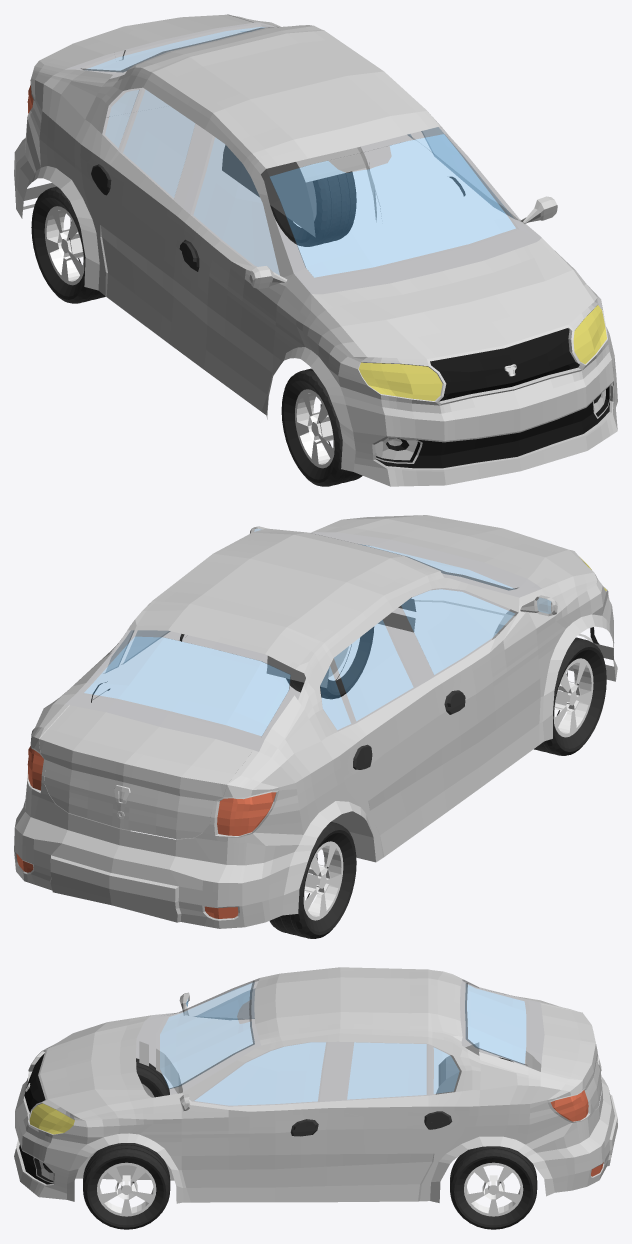
Rendered from Logan2_2017.glb.
3 renders of one model, top to bottom at view 1: azimuth 30°, elevation 25°; view 2: azimuth 150°, elevation 25°; view 3: azimuth 270°, elevation 25°, orthographic. The views are drawn at different scales.
Visible parts, largest first — view 1: Body, Front Right Wheel, Rear Right Wheel, Rear Left Wheel; view 2: Body, Rear Right Wheel, Front Right Wheel, Front Left Wheel; view 3: Body, Front Left Wheel, Rear Left Wheel, Front Right Wheel.
Boxes of the visible parts, x1,y1,x2,y2 form: Body: (14, 14, 617, 486); Front Right Wheel: (281, 368, 362, 486); Rear Right Wheel: (31, 186, 105, 303); Rear Left Wheel: (270, 171, 356, 246); Body: (14, 515, 617, 928); Rear Right Wheel: (269, 822, 356, 938); Front Right Wheel: (534, 637, 606, 755); Front Left Wheel: (286, 627, 373, 699); Body: (14, 967, 617, 1203); Front Left Wheel: (83, 1143, 170, 1229); Rear Left Wheel: (450, 1146, 537, 1229); Front Right Wheel: (136, 1058, 169, 1097).
Bounding box in the file's own units: 2.53 × 2.03 × 5.89.
